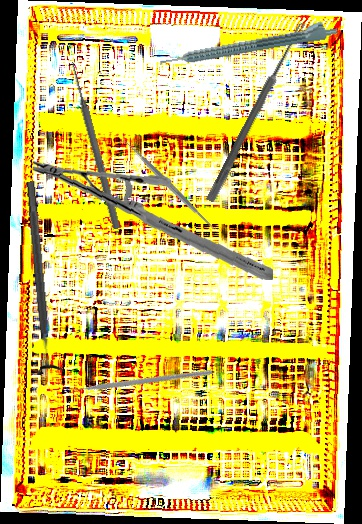Chopper: (58, 302, 214, 453)
Fixation Ring: (14, 179, 67, 376)
Handpiece: (157, 17, 339, 69)
Needle Holder: (32, 145, 274, 296)
Pusher: (67, 61, 123, 230)
Spatula Surgical: (117, 133, 220, 236)
Surgical Spoon: (206, 20, 306, 204)
